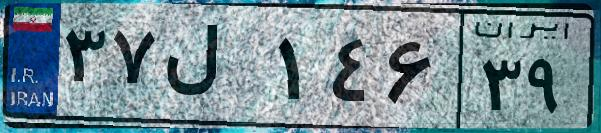1: (270, 28, 330, 110)
3: (57, 26, 110, 100), (475, 38, 525, 113)
4: (330, 28, 385, 110)
6: (385, 28, 445, 110)
7: (110, 28, 158, 98)
9: (525, 38, 570, 115)
ل: (158, 20, 270, 120)
